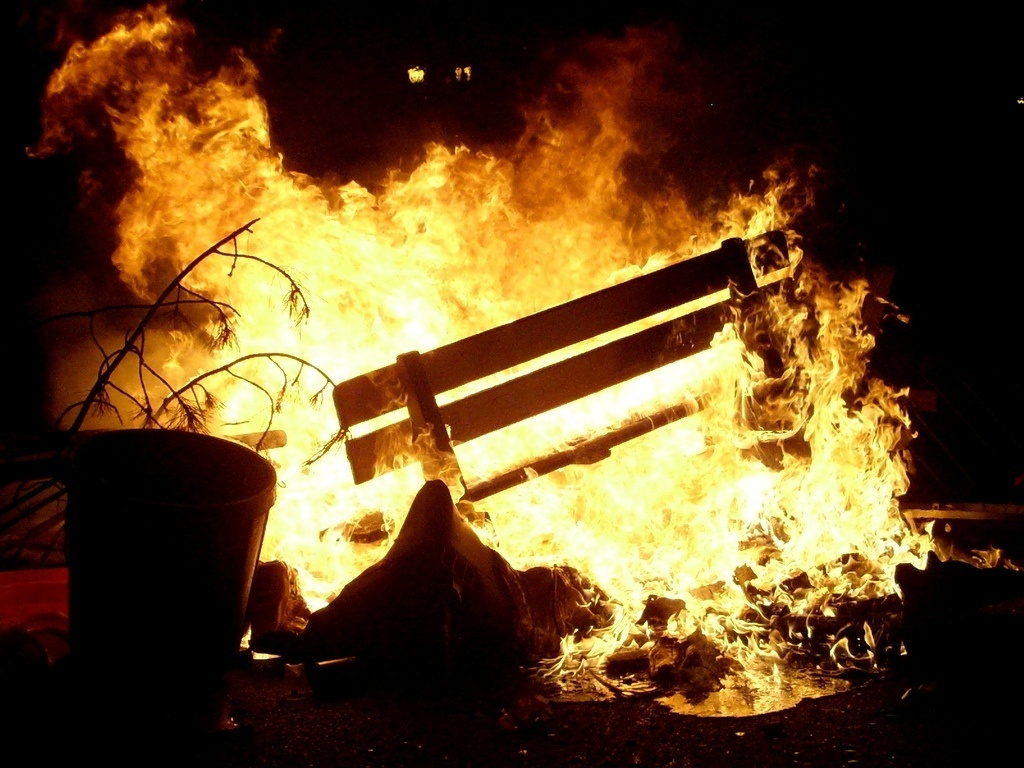fire: (193, 104, 948, 708)
